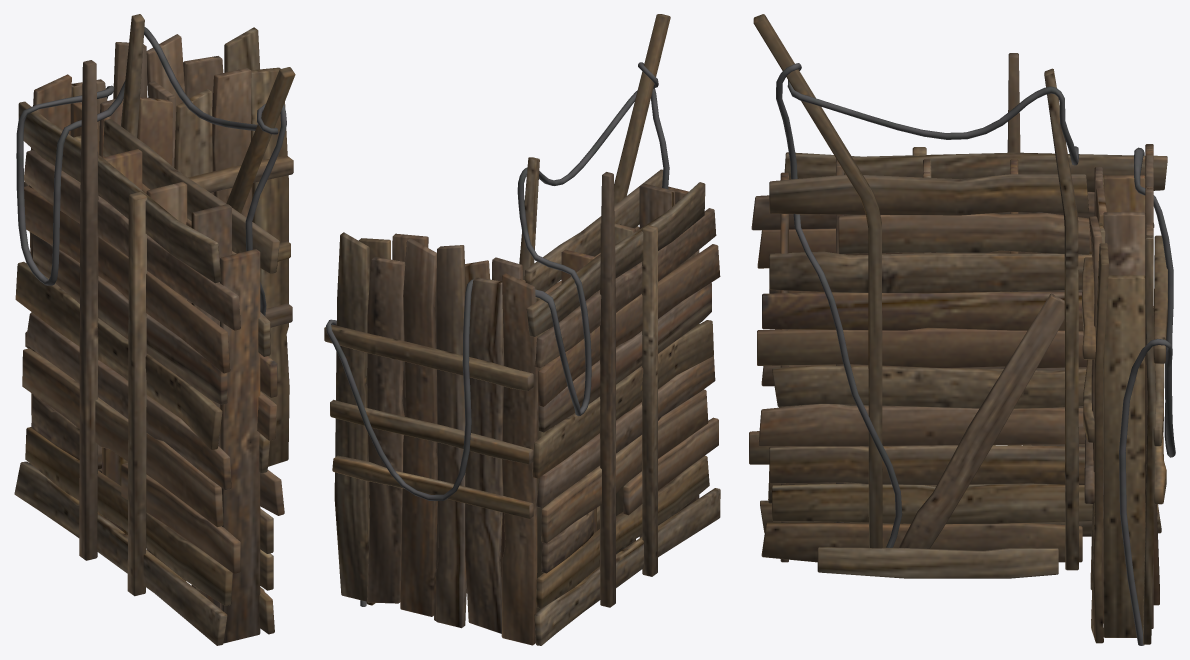
Rendered from MazeWall03.fbx.
3 views of the same model, side by side, from view 1: azimuth 30°, elevation 25°; view 2: azimuth 150°, elevation 25°; view 3: azimuth 270°, elevation 25° (orthographic). The views are drawn at different scales.
Visible parts, largest first — view 1: SM_FAR_MazeWall_03.mo; view 2: SM_FAR_MazeWall_03.mo; view 3: SM_FAR_MazeWall_03.mo.
Part boxes in pixels (left/top/right/bottom): SM_FAR_MazeWall_03.mo: left=14, top=14, right=295, bottom=645; SM_FAR_MazeWall_03.mo: left=324, top=14, right=720, bottom=645; SM_FAR_MazeWall_03.mo: left=749, top=14, right=1175, bottom=645.
Bounding box in the file's own units: 224 × 463 × 321.
